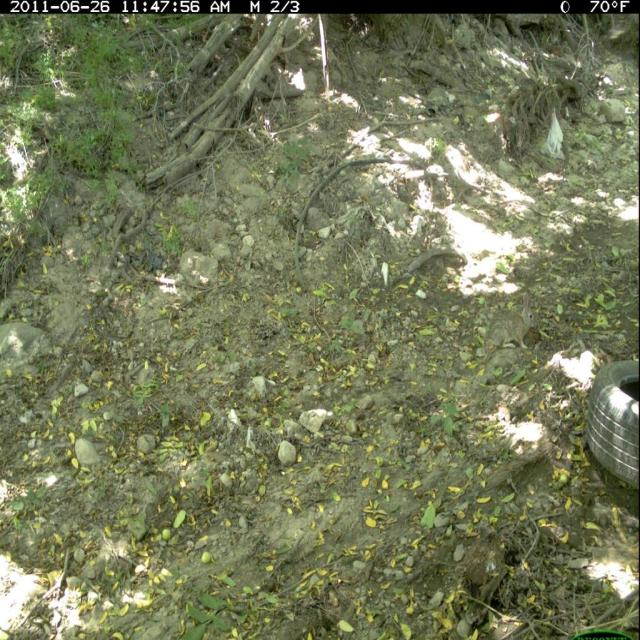rabbit: (485, 286, 543, 354)
